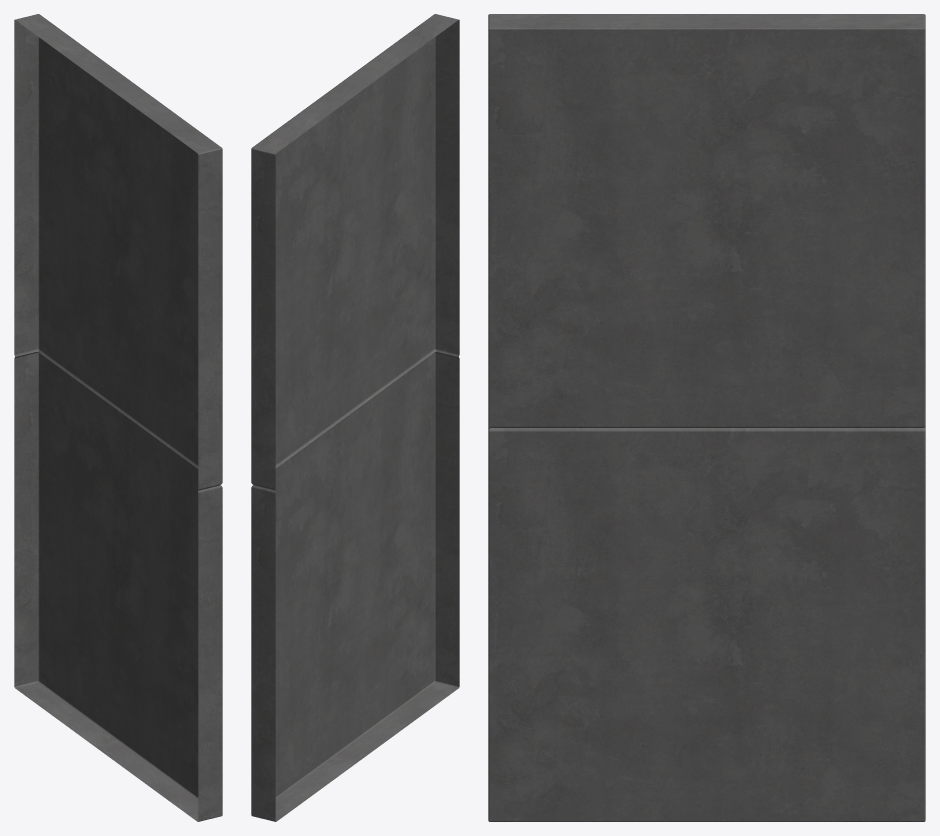
Rendered from cP_Pathway04_10.dae.
3 renders of one model, left to right at view 1: azimuth 30°, elevation 25°; view 2: azimuth 150°, elevation 25°; view 3: azimuth 270°, elevation 25°, orthographic. The views are drawn at different scales.
Parts seen in each view (by area): view 1: cP_Pathway04_10.001; view 2: cP_Pathway04_10.001; view 3: cP_Pathway04_10.001.
Part boxes in pixels (left/top/right/bottom): cP_Pathway04_10.001: left=14, top=14, right=222, bottom=821; cP_Pathway04_10.001: left=251, top=14, right=459, bottom=821; cP_Pathway04_10.001: left=488, top=14, right=925, bottom=821.
Size of the model in its own units: 0.3104 by 4 by 8.02.
